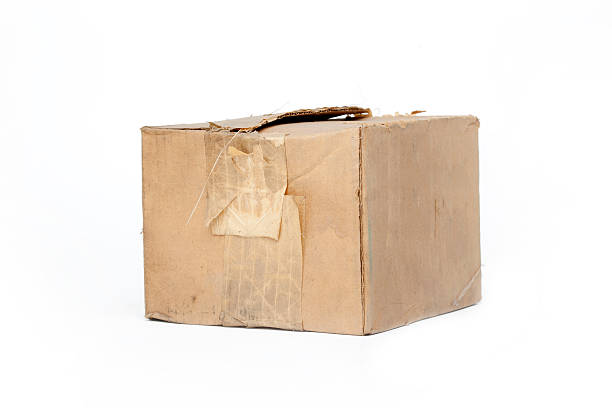damaged package: (228, 96, 382, 159), (214, 150, 288, 236)
